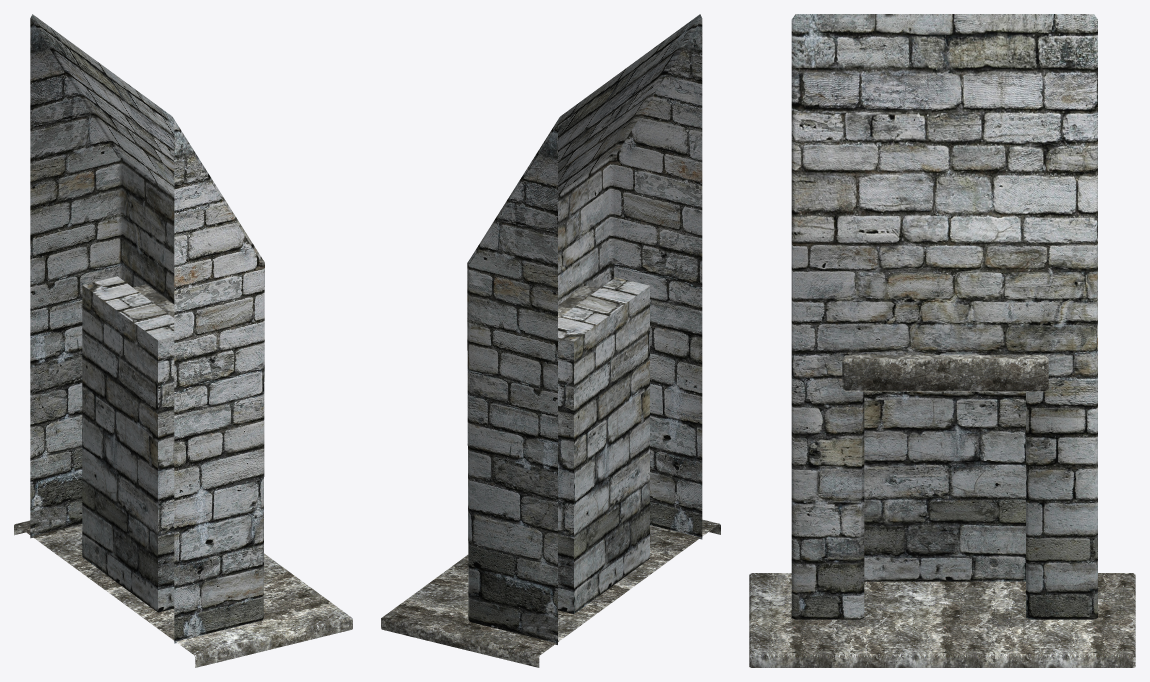
Rendered from cabinInteriorFireplace_01_LOD0.FBX.
The picture shows the model from 3 angles, left to right: view 1: azimuth 30°, elevation 25°; view 2: azimuth 150°, elevation 25°; view 3: azimuth 270°, elevation 25°; orthographic projection. The views are drawn at different scales.
Visible parts, largest first — view 1: cabinInteriorFireplace_01_LOD0; view 2: cabinInteriorFireplace_01_LOD0; view 3: cabinInteriorFireplace_01_LOD0.
Part boxes in pixels (box(x1,y1,x2,y2)): cabinInteriorFireplace_01_LOD0: box(14, 14, 352, 667); cabinInteriorFireplace_01_LOD0: box(381, 14, 720, 667); cabinInteriorFireplace_01_LOD0: box(749, 14, 1135, 667).
Size of the model in its own units: 5.58 by 17.88 by 10.96.
Materials: 2 (2 with a texture image).
